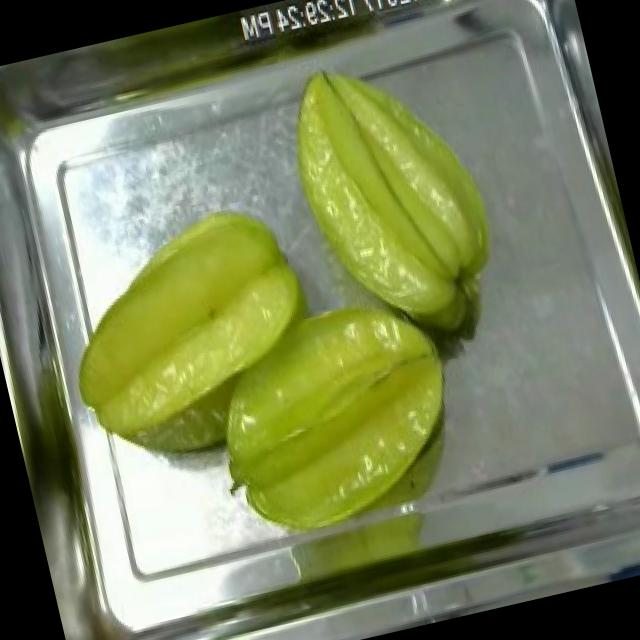fruit: (188, 268, 491, 557), (263, 29, 521, 356), (40, 187, 340, 456), (63, 585, 267, 640)
